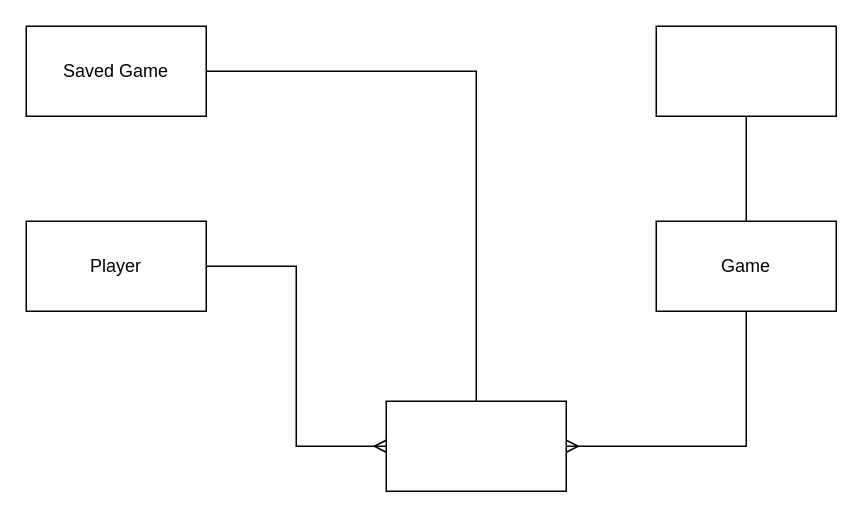
This 863x518 diagram has some shape labels left out. The centre of each missing label's shape, as x and y in pixels:
"Game Settings" belongs at point (745, 70).
"Played Game" belongs at point (475, 445).
